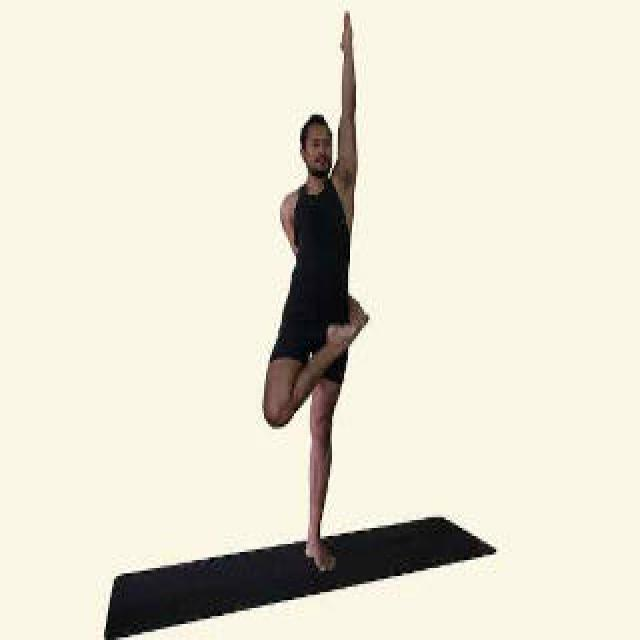yoga-pose tree: (266, 9, 370, 568)
